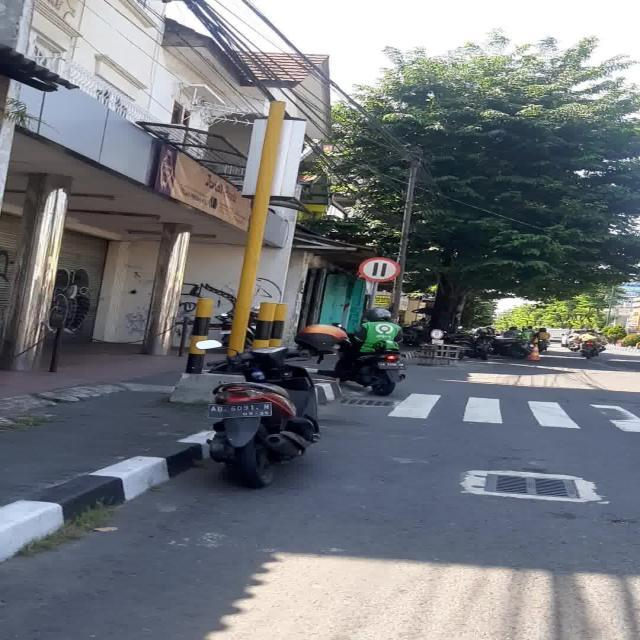Larangan Muatan - 10 ton: (358, 257, 399, 282)
